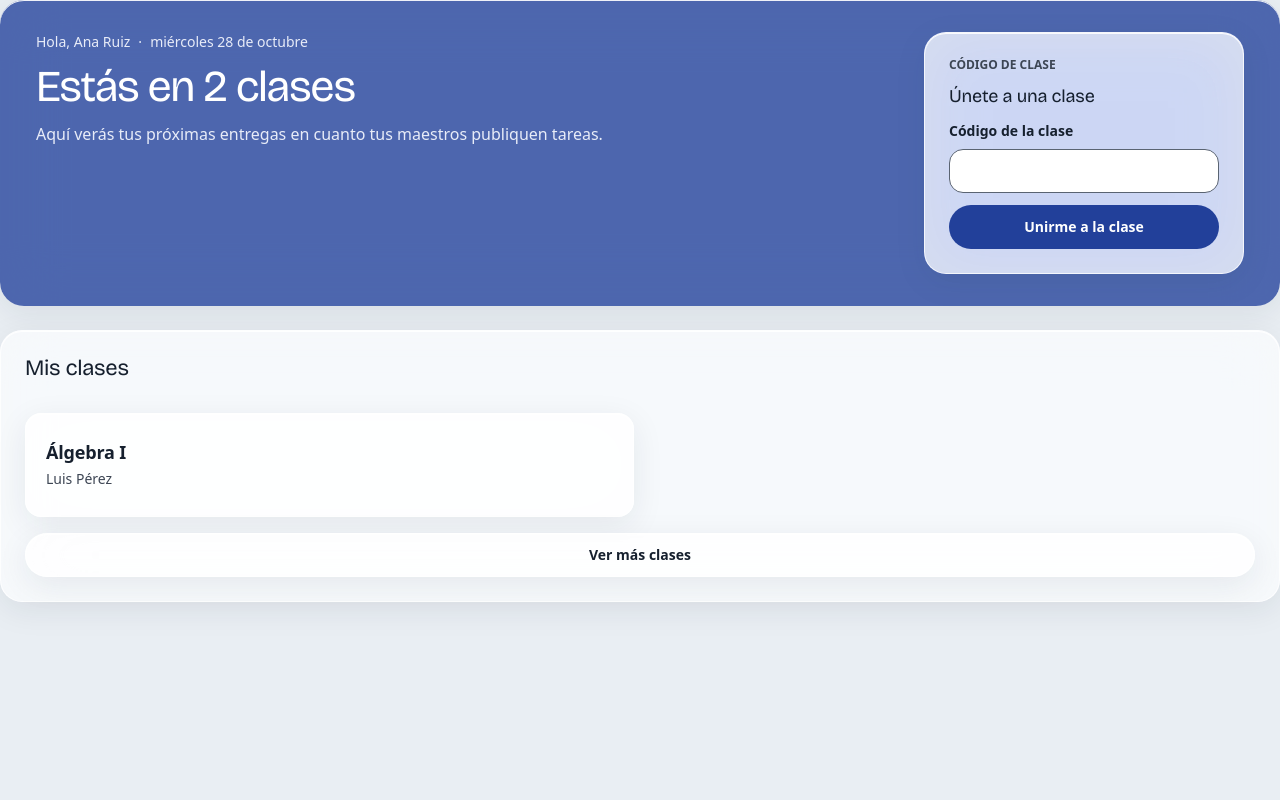
Test: CHORE-03 · consultas de features/clases ante un VALIDACION fuera de contrato › CH3-B09: «Ver más clases» del inicio del estudiante con «limite: Too big: expected number» muestra el genérico, nunca el texto en inglés
This screenshot has width=1280, height=800.
Click the button "Ver más clases".
click(640, 555)  # box [25,533,1255,577]
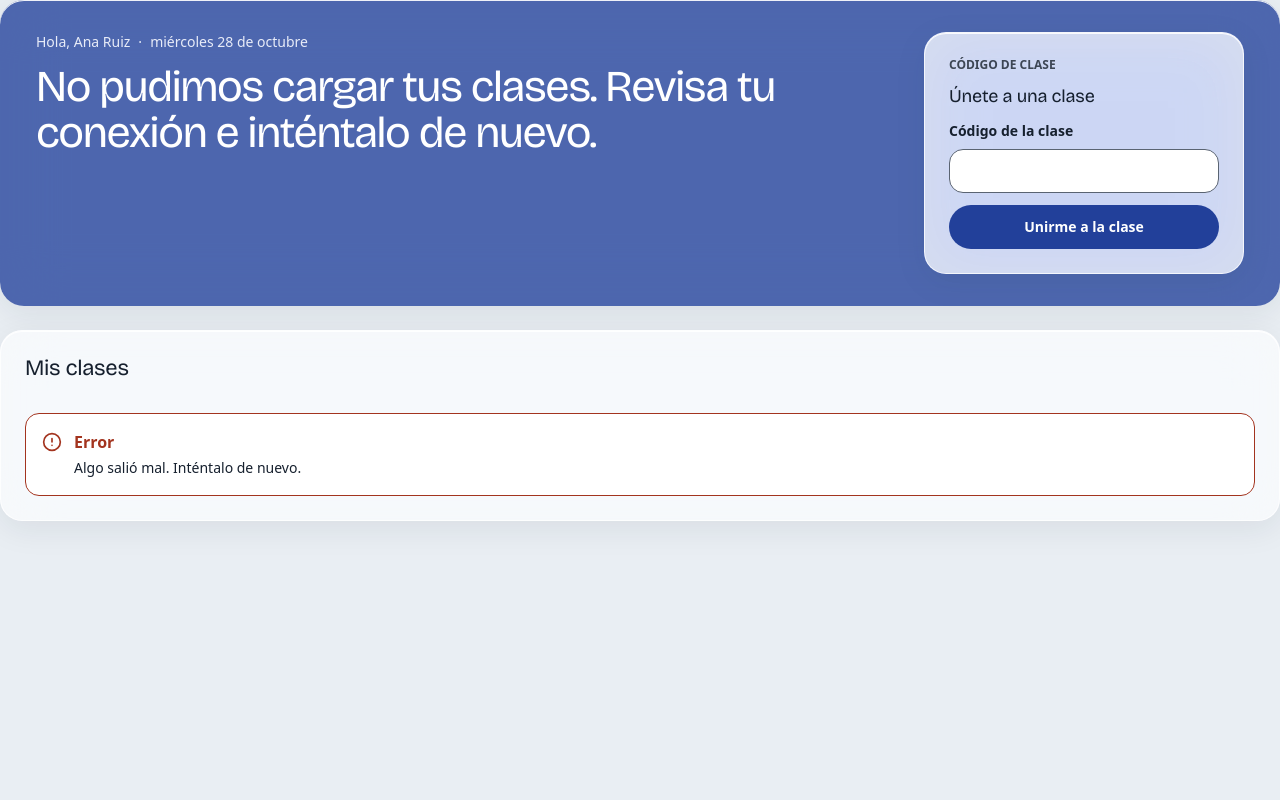
Now the text "Algo salió mal. Inténtalo de nuevo." is shown, box [74,458,301,479]
